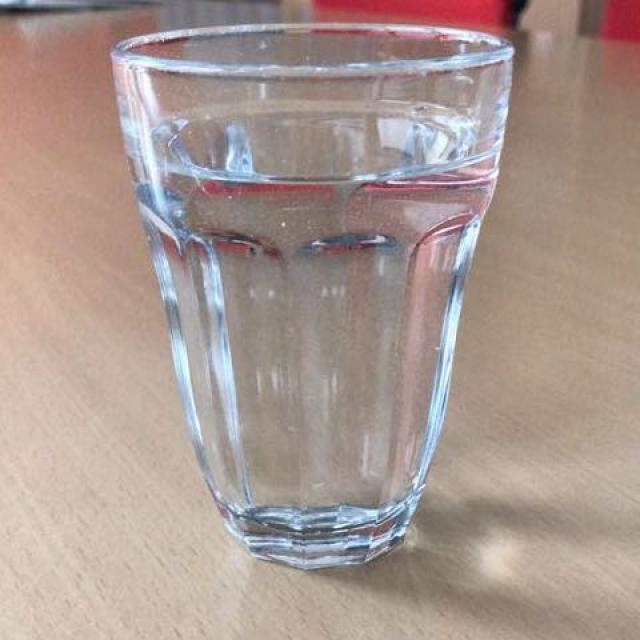water: (109, 88, 518, 565), (134, 99, 532, 557), (134, 90, 499, 573), (132, 145, 508, 611), (143, 97, 508, 576), (136, 101, 507, 566), (143, 110, 522, 565), (125, 94, 485, 568), (132, 125, 502, 578), (146, 91, 502, 560), (94, 138, 495, 552), (118, 120, 502, 550), (135, 120, 500, 572), (137, 96, 503, 546), (138, 104, 514, 531), (131, 99, 486, 544), (136, 125, 498, 552), (128, 98, 474, 544), (152, 114, 485, 558), (151, 117, 481, 546), (148, 141, 474, 557)
